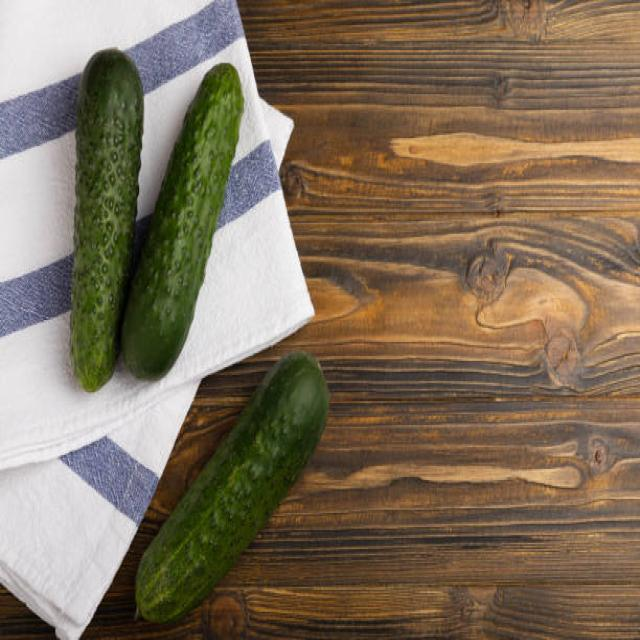cucumber: (136, 346, 330, 620), (120, 59, 244, 380), (71, 50, 144, 387)
